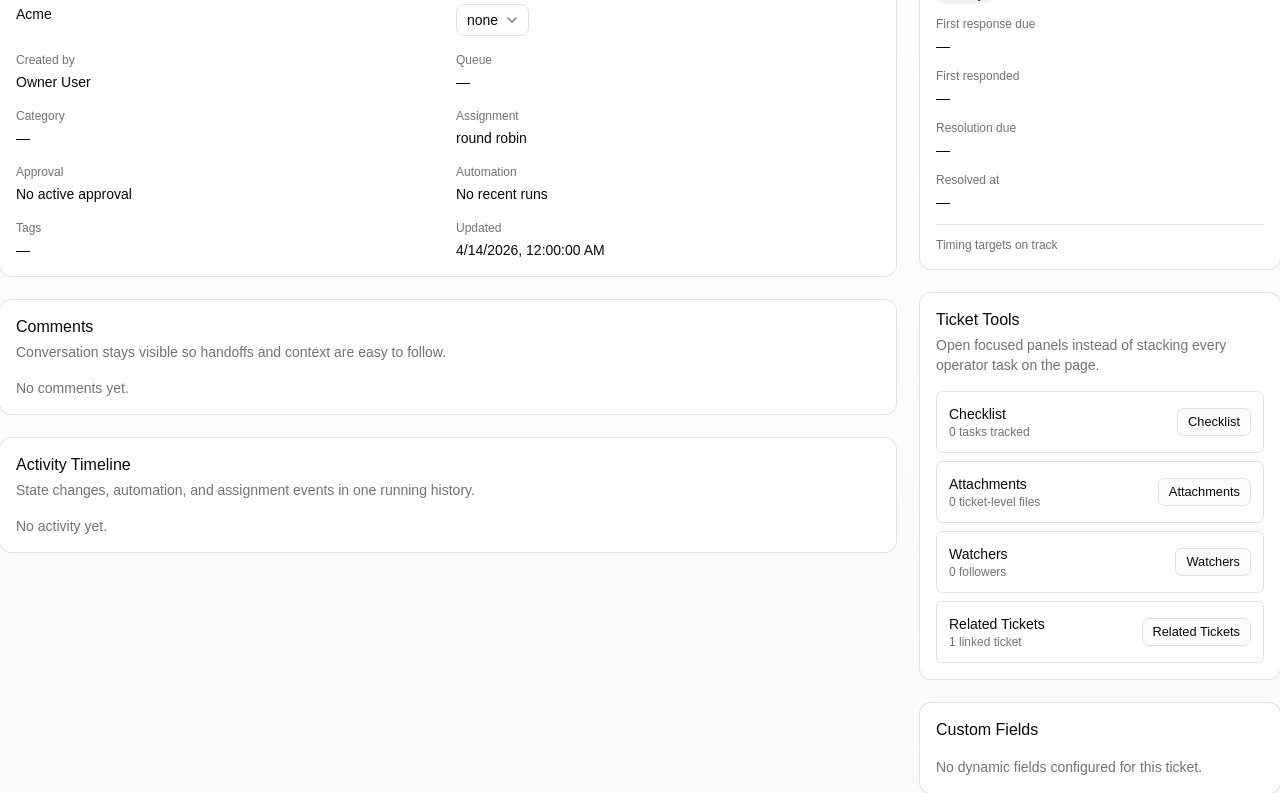
it: TicketDetailsPage mutations › shows related-ticket error when removing a related ticket fails
The image size is (1280, 793).
(page scrolled)
Step 1. Click the button with aria-label "Open Related Tickets" → (1196, 632), box [1142,618,1251,646]
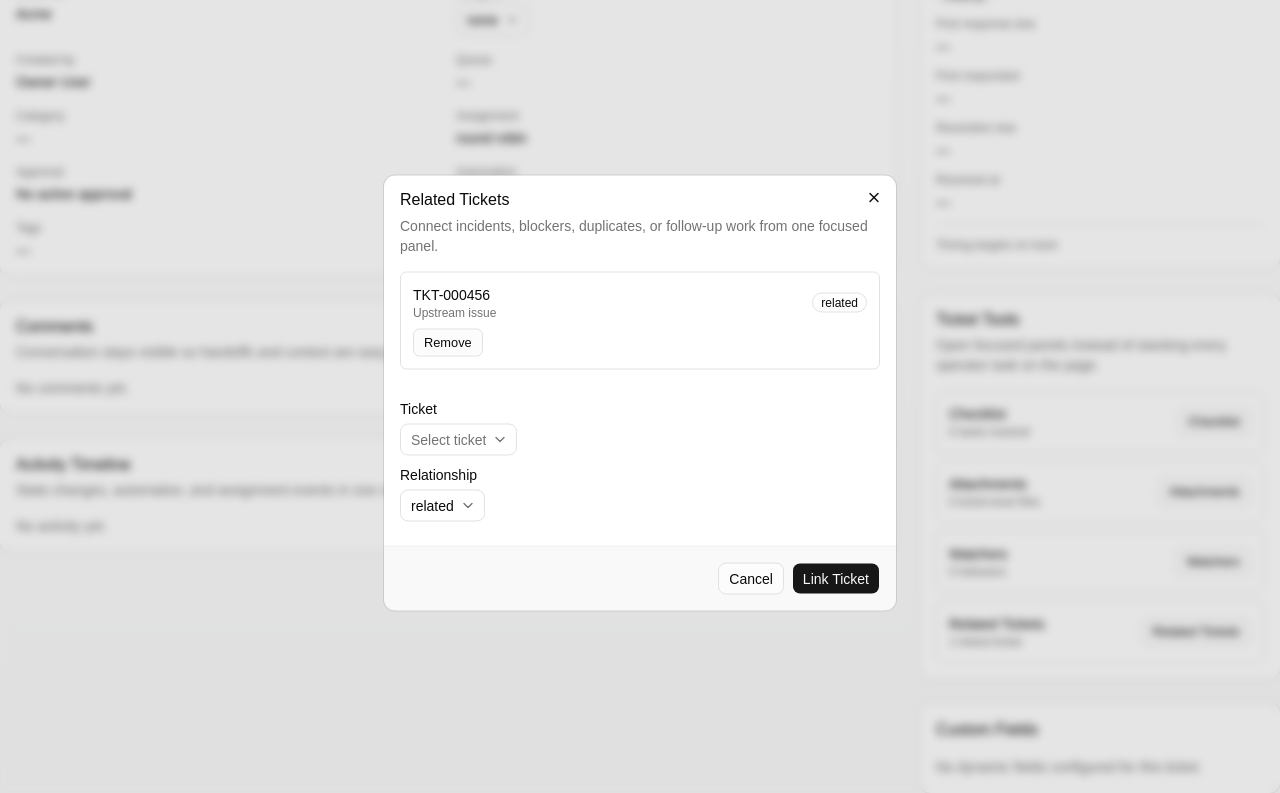
Result: the button "Remove" is shown
Step 2. Click the button "Remove" → (448, 342), box [413,328,483,356]
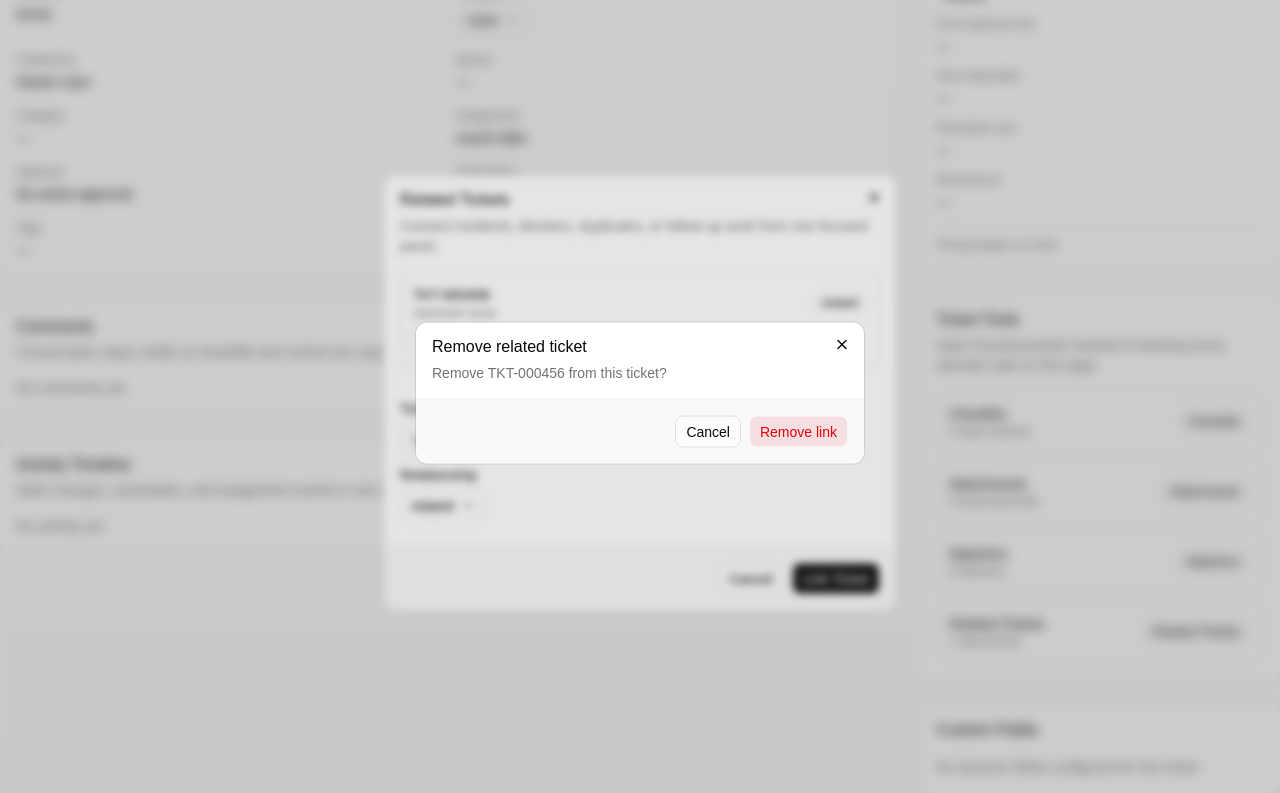
Result: the heading "Remove related ticket" is shown at [432,338,587,354]
Step 3. Click the button "Remove link" → (798, 432), box [749,416,848,448]
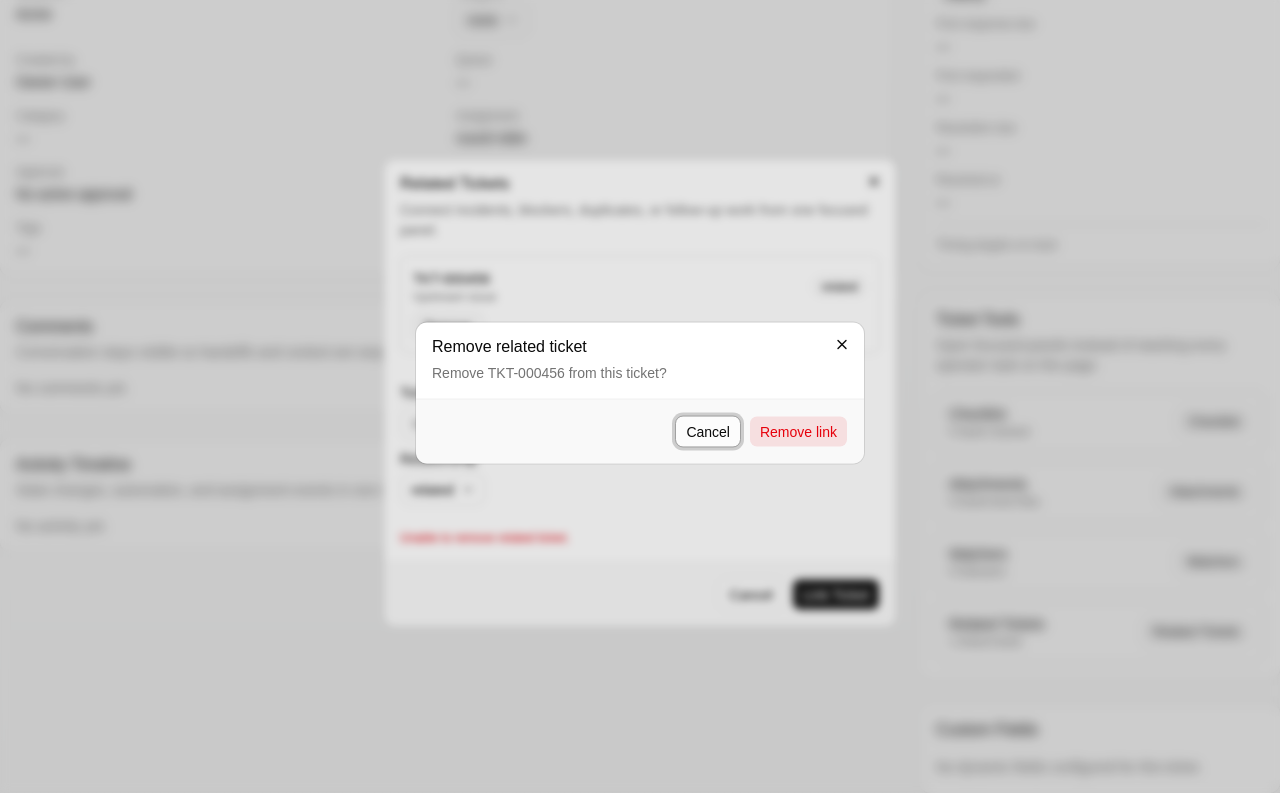
Result: the text "Unable to remove related ticket." is shown at [400,530,569,544]
